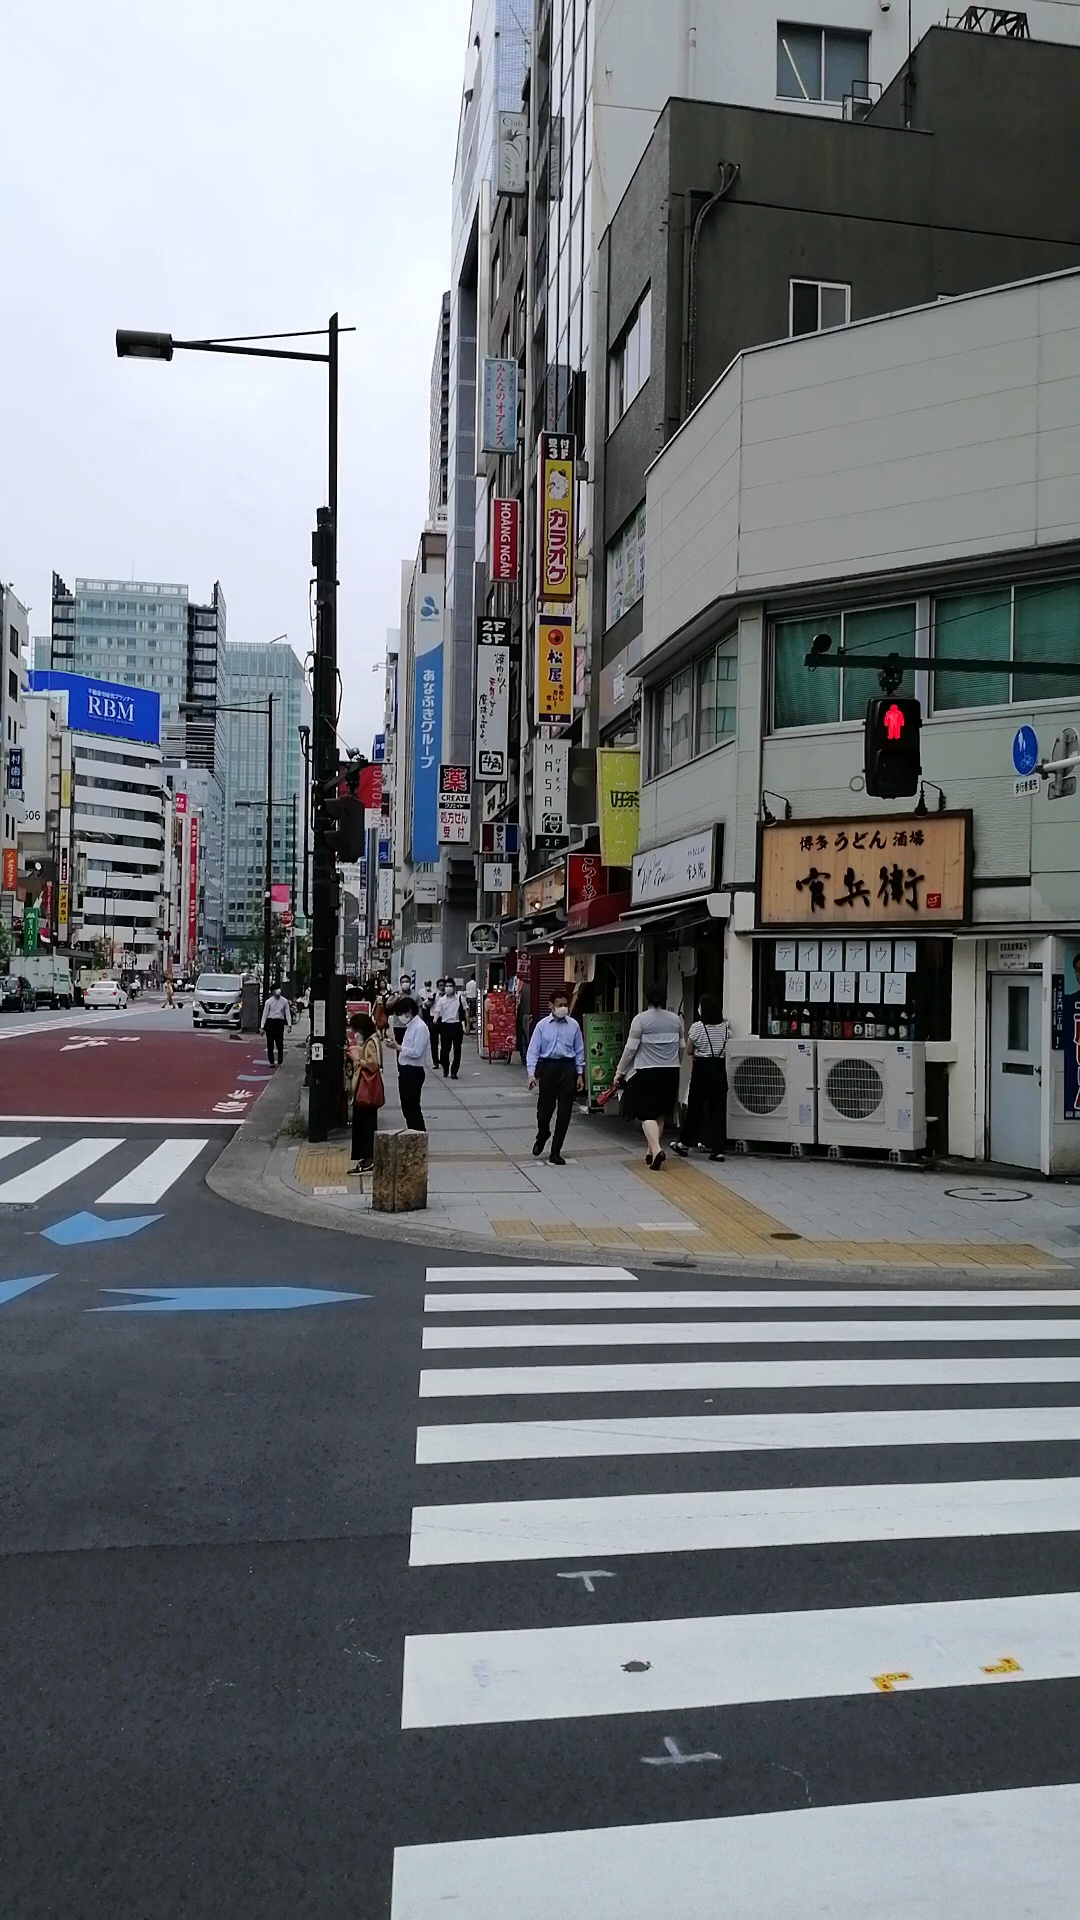red: (865, 698, 922, 795)
